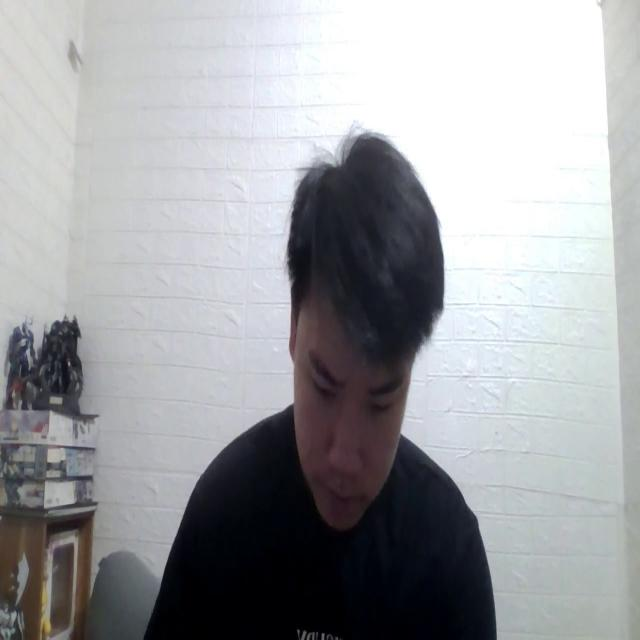student: (151, 129, 498, 640)
